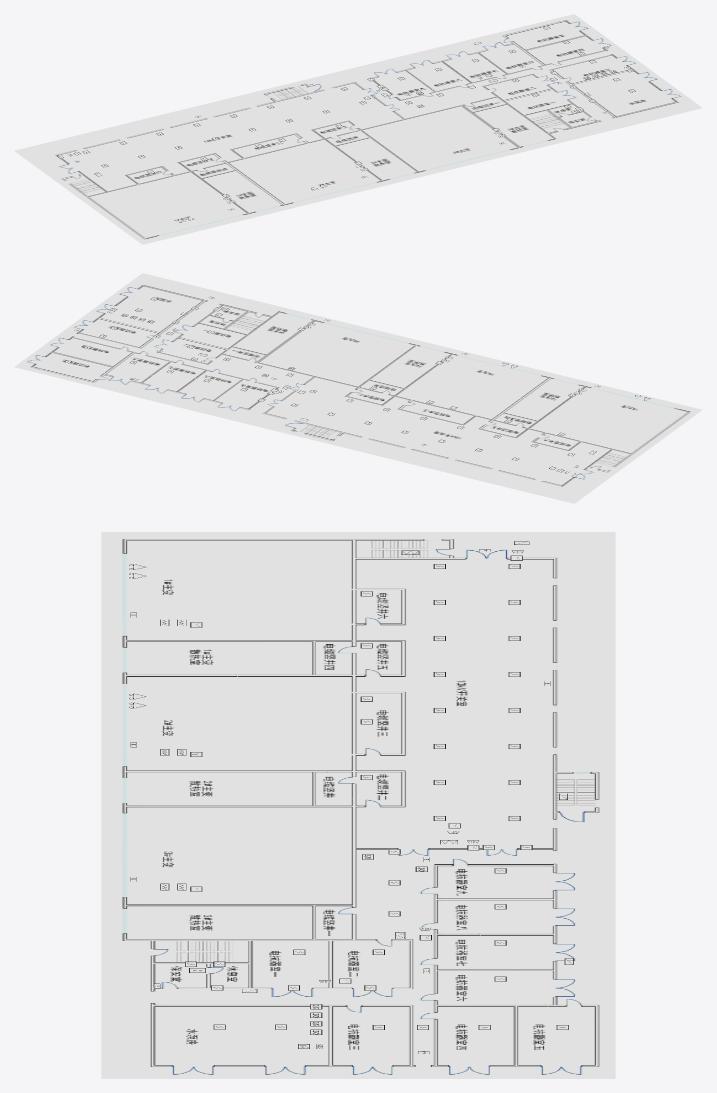
3 views of the same model, one above another, from view 1: azimuth 30°, elevation 25°; view 2: azimuth 150°, elevation 25°; view 3: azimuth 270°, elevation 25° (orthographic). The views are drawn at different scales.
Parts seen in each view (by area): view 1: NC_RM_Floor_主控楼一层; view 2: NC_RM_Floor_主控楼一层; view 3: NC_RM_Floor_主控楼一层.
Part boxes in pixels (bbox=[...]): NC_RM_Floor_主控楼一层: bbox=[14, 14, 702, 244]; NC_RM_Floor_主控楼一层: bbox=[14, 273, 702, 503]; NC_RM_Floor_主控楼一层: bbox=[101, 532, 615, 1078].
Bounding box in the file's own units: 64565 × 631 × 25664.
Materials: 3 (3 with a texture image).
